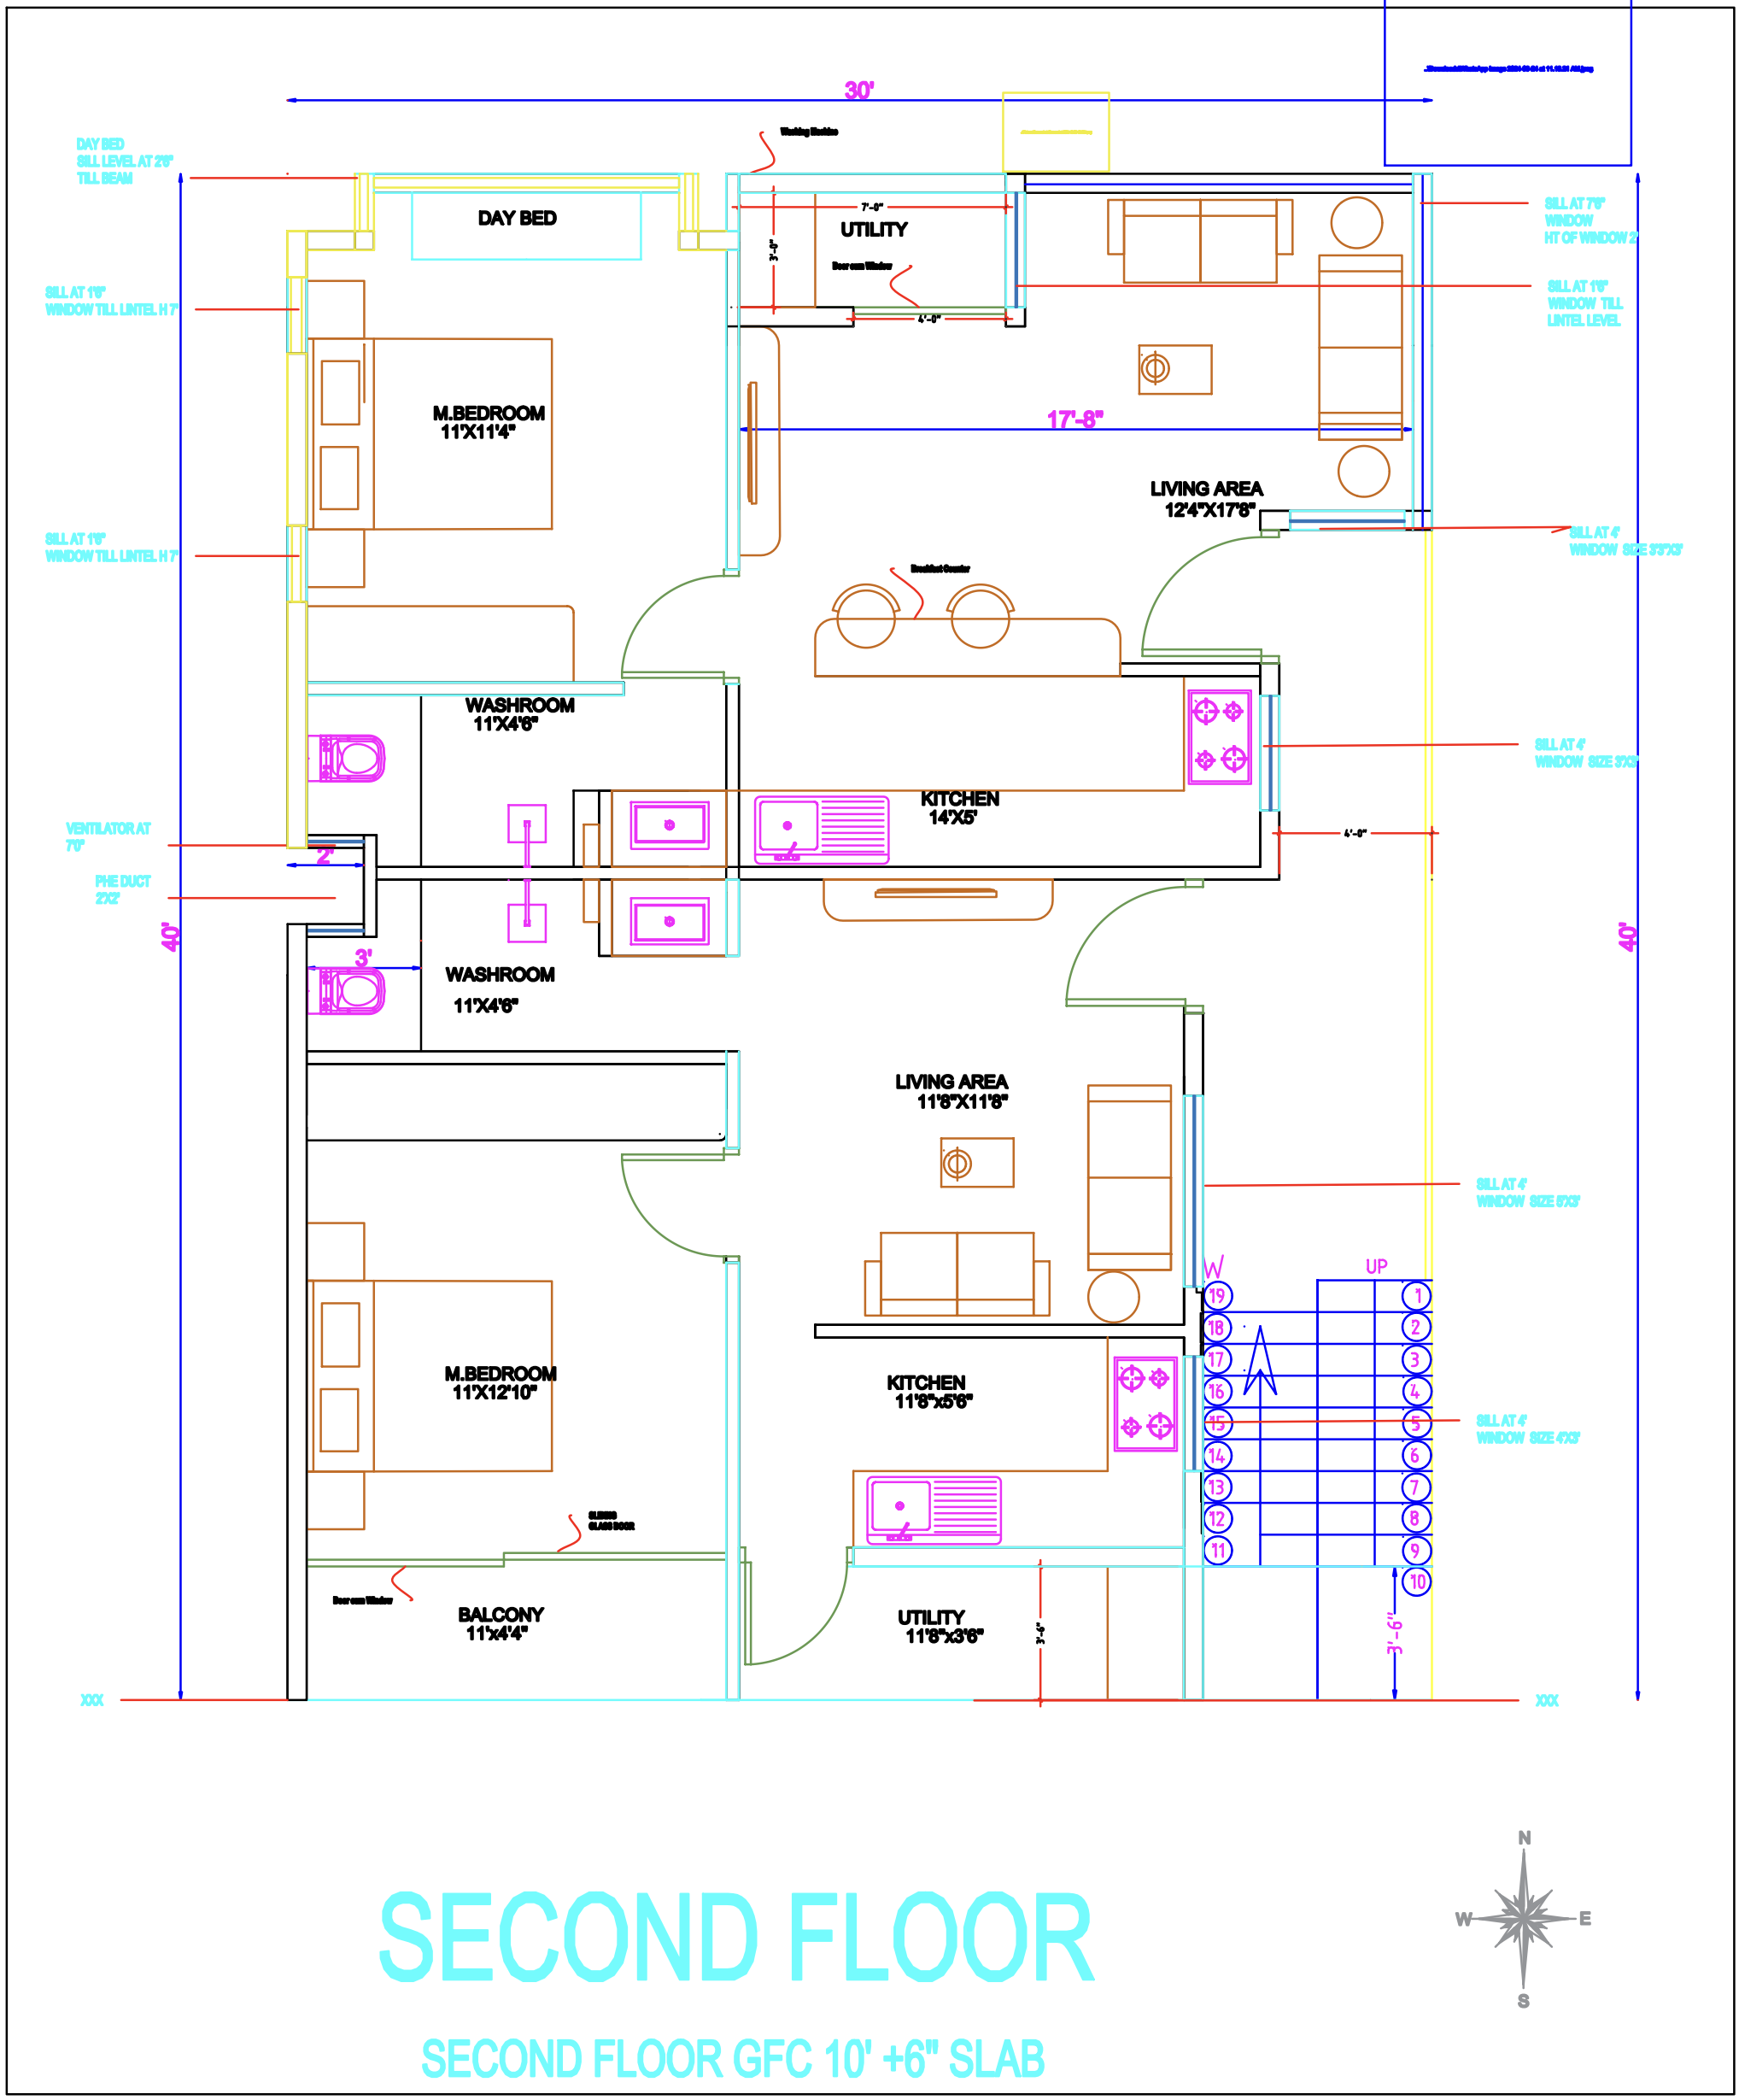door: (1060, 879, 1200, 1017), (1135, 530, 1277, 665), (616, 1144, 736, 1265), (619, 565, 736, 682), (745, 1549, 853, 1669)
